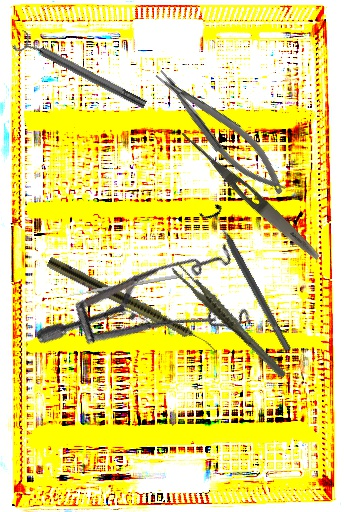Dressing Forceps: (176, 128, 324, 264)
Fixation Ring: (198, 201, 300, 358), (11, 27, 151, 117)
Handpiece: (44, 255, 222, 356)
Needle Holder: (149, 56, 294, 206)
Pusher: (61, 273, 184, 299)
Speculum: (32, 197, 277, 437)
Tissue Forceps: (168, 245, 289, 396)
